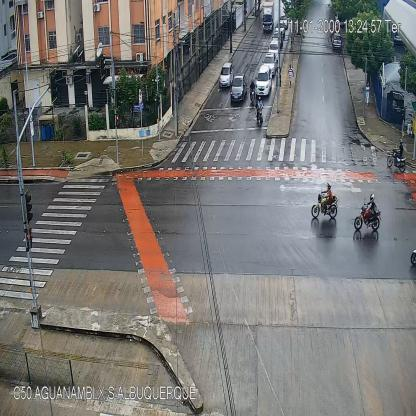car: (230, 74, 247, 102), (258, 66, 272, 94), (219, 62, 233, 86), (263, 52, 277, 75), (272, 31, 283, 51), (269, 39, 278, 58), (332, 34, 341, 50), (278, 15, 288, 29), (276, 22, 284, 36)
motorbike: (355, 194, 381, 233), (311, 183, 336, 220), (387, 140, 405, 174), (256, 96, 263, 128), (250, 79, 255, 104)
person: (287, 63, 294, 88)
truck: (261, 2, 274, 32)
